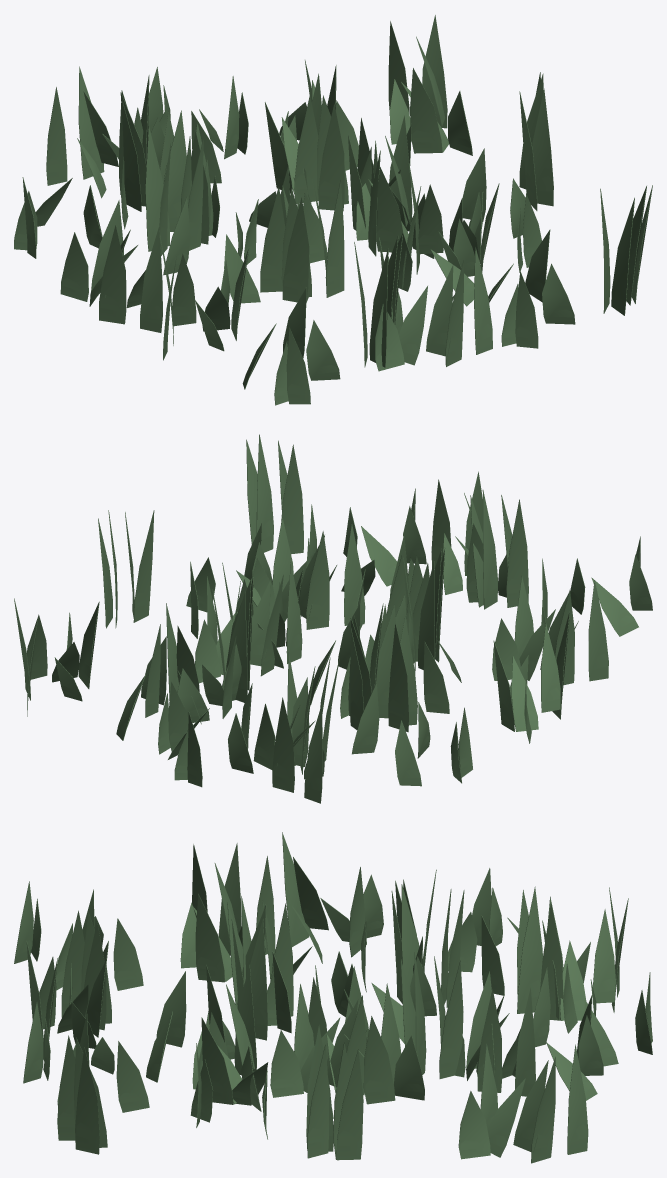
Rendered from gräs.fbx.
3 renders of one model, top to bottom at view 1: azimuth 30°, elevation 25°; view 2: azimuth 150°, elevation 25°; view 3: azimuth 270°, elevation 25°, orthographic. The views are drawn at different scales.
Parts seen in each view (by area): view 1: Gras; view 2: Gras; view 3: Gras.
Boxes of the visible parts, x1,y1,x2,y2 form: Gras: (14, 15, 652, 405); Gras: (14, 434, 652, 803); Gras: (14, 832, 652, 1163).
Size of the model in its own units: 114 by 29.41 by 132.
